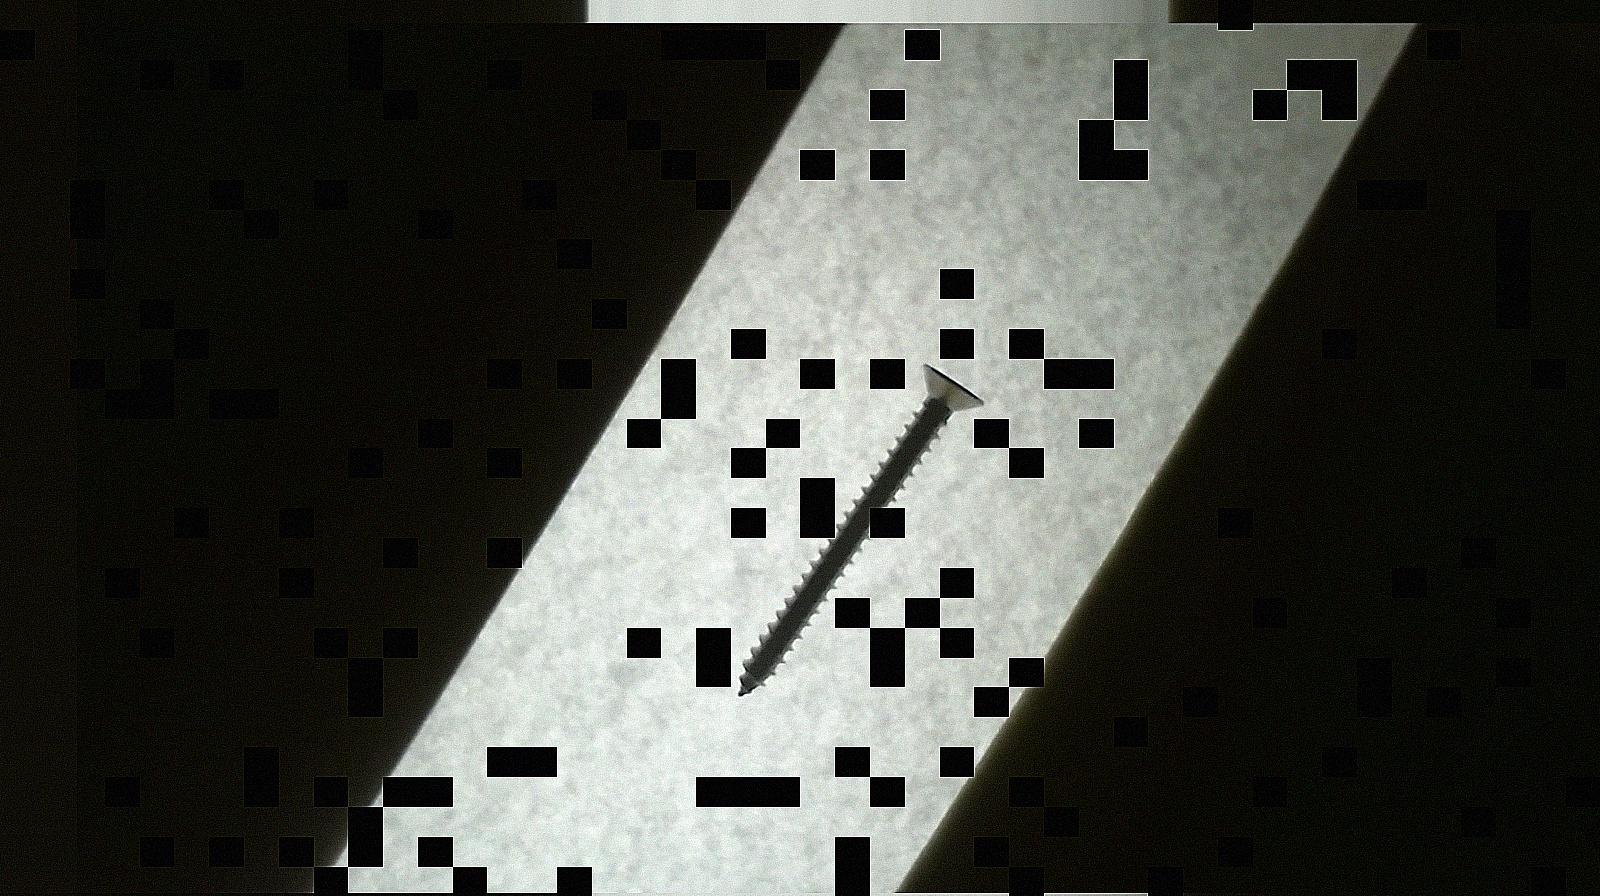S002: (732, 359, 995, 704)
